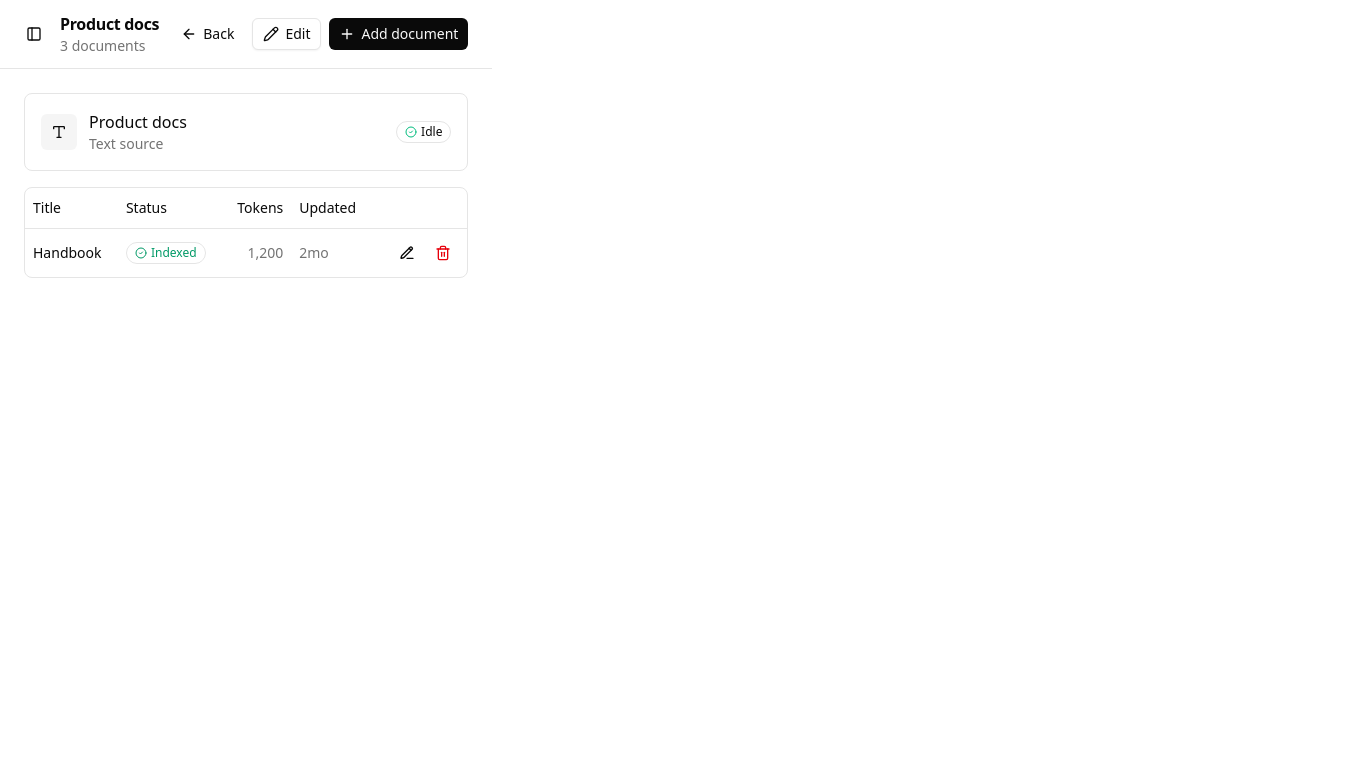
Test: SourceDetailPage › refuses to edit a document the detail endpoint reports as non-editable
Step 1. Click the button named "Edit Handbook" → (407, 252), box [391,236,423,268]
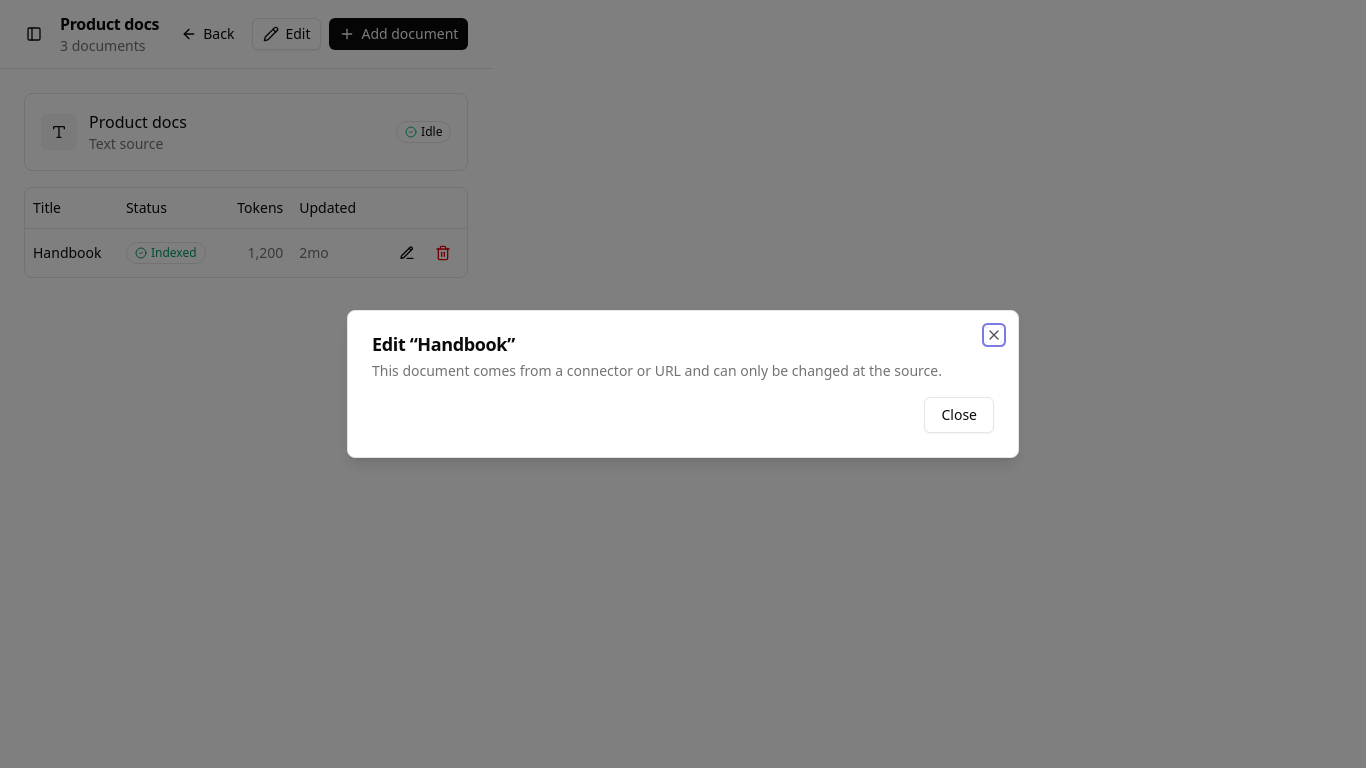
Result: the text "can only be changed at the source" is shown at [372,361,942,380]
